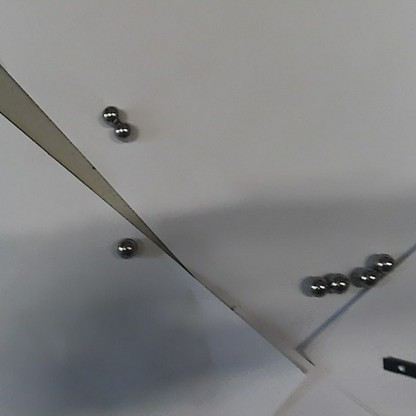ironball: (116, 237, 135, 257), (100, 103, 117, 122), (357, 269, 377, 285), (328, 275, 347, 291), (308, 279, 325, 295), (376, 255, 392, 271), (115, 122, 128, 136)
